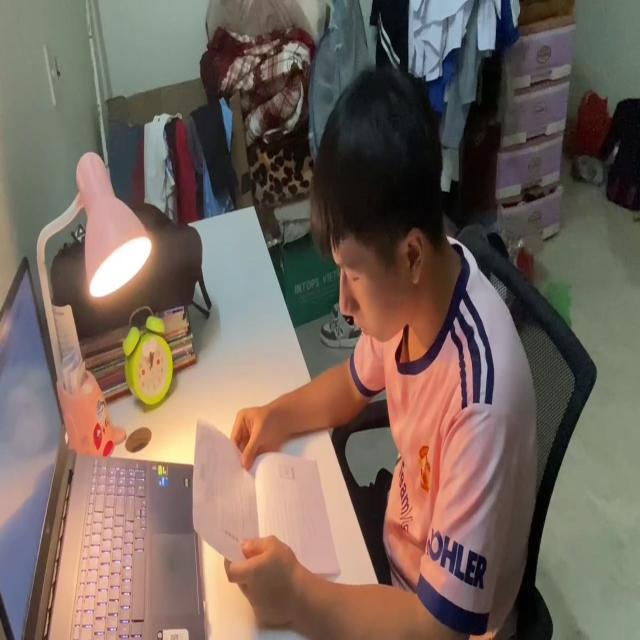book: (184, 416, 340, 586)
laptop: (0, 254, 206, 640)
student: (219, 73, 541, 640)
